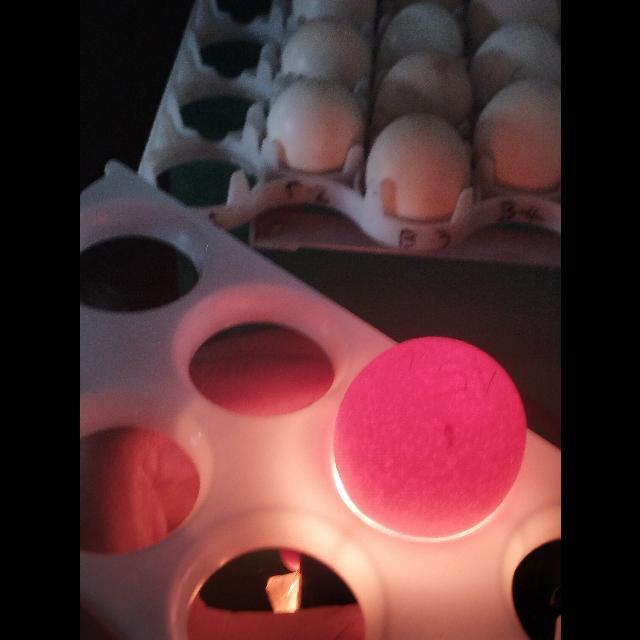Infertile: (330, 337, 530, 536)
